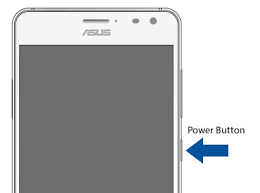asus: (9, 4, 186, 193)
